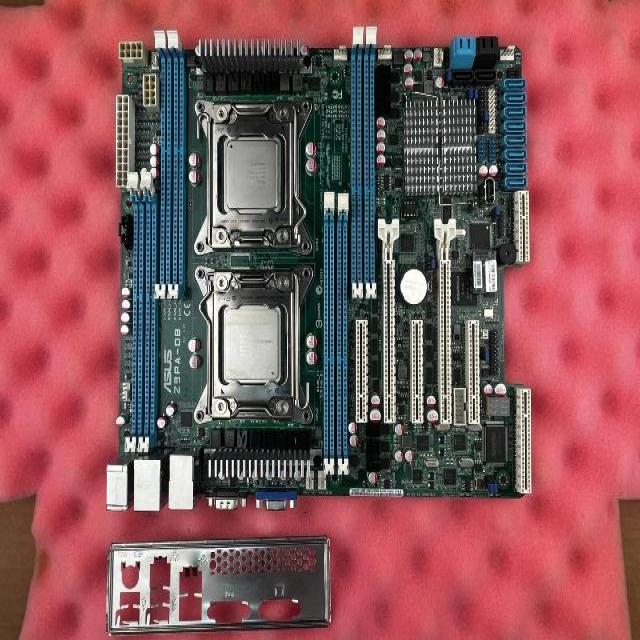CPU: (218, 132, 288, 216), (218, 302, 288, 386)
